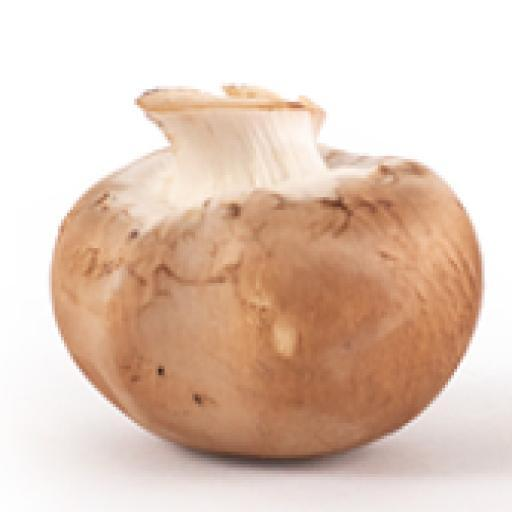mushroom: (46, 73, 489, 464)
